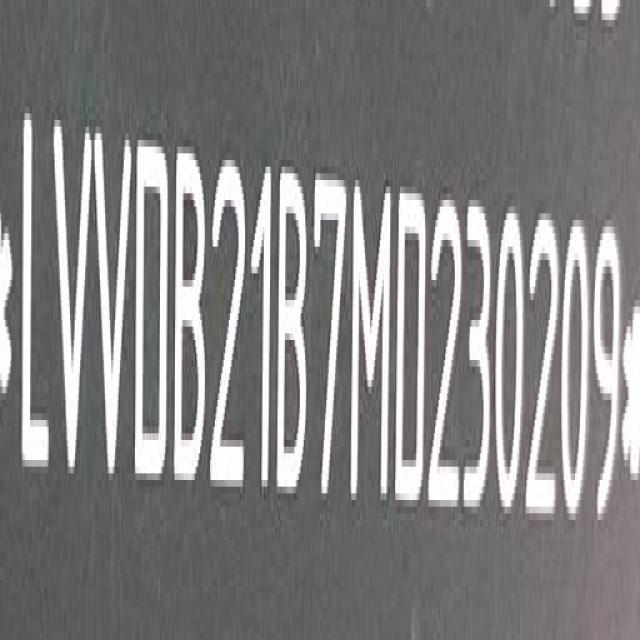0: (498, 210, 528, 521), (562, 220, 592, 519)
1: (253, 156, 276, 497)
2: (209, 152, 247, 491), (432, 192, 464, 517), (528, 216, 560, 525)
3: (465, 197, 495, 518)
7: (315, 167, 349, 502)
9: (594, 224, 623, 517)
B: (173, 147, 206, 491), (278, 165, 310, 495)
D: (133, 128, 170, 484), (395, 188, 431, 511)
L: (20, 110, 52, 484)
M: (353, 176, 395, 507)
V: (94, 121, 134, 486), (53, 121, 92, 486)
